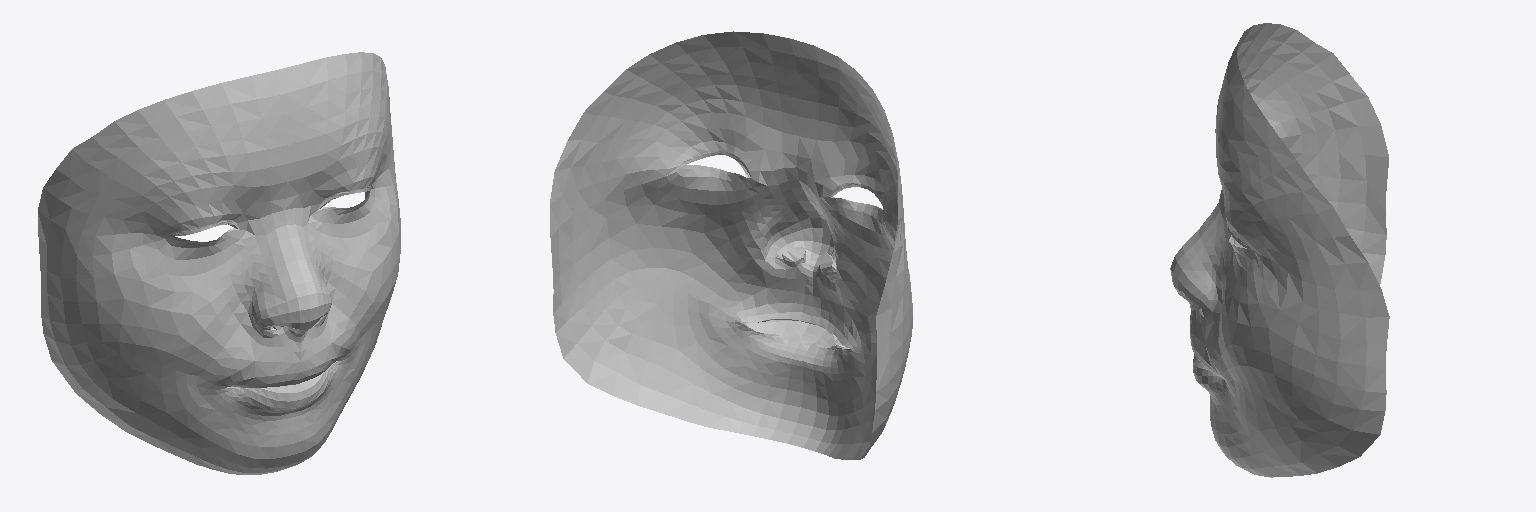
File: mouthRollUpper.obj
3 views of the same model, side by side, from view 1: azimuth 30°, elevation 25°; view 2: azimuth 150°, elevation 25°; view 3: azimuth 270°, elevation 25° (orthographic).
Parts seen in each view (by area): view 1: default; view 2: default; view 3: default.
Boxes of the visible parts, box(x1,y1,x2,y2) form: default: box(38, 52, 400, 474); default: box(550, 31, 912, 459); default: box(1170, 23, 1389, 477).
Bounding box in the file's own units: 0.1624 × 0.1854 × 0.0913.